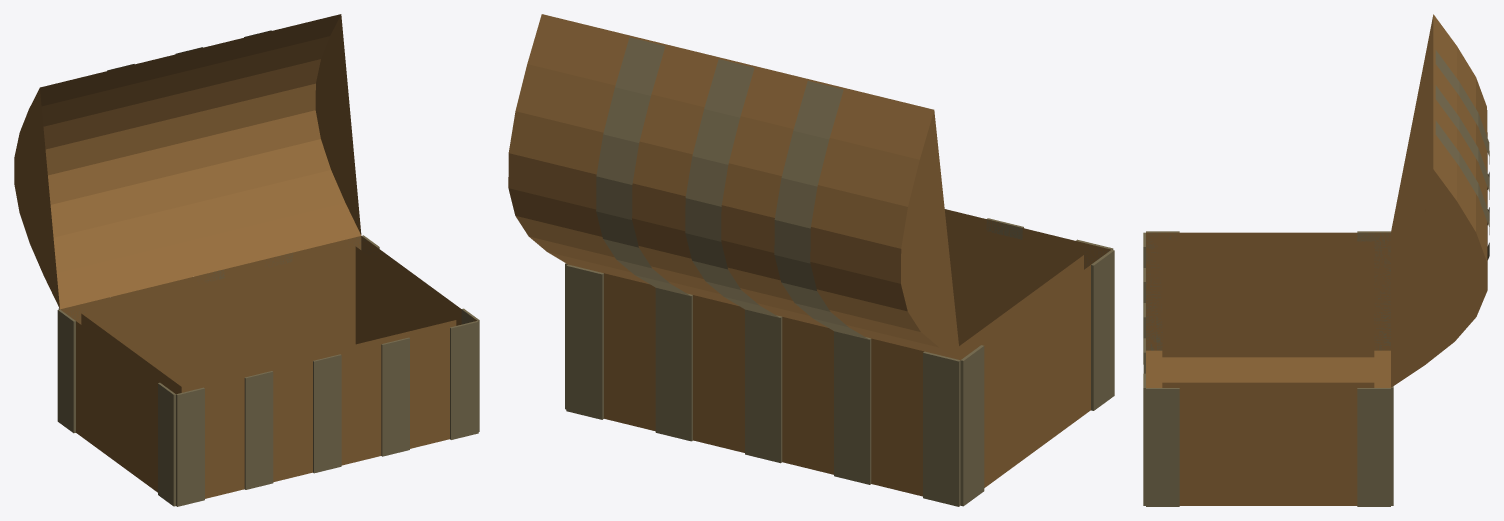
Rendered from chest_open.fbx.
The picture shows the model from 3 angles, left to right: view 1: azimuth 30°, elevation 25°; view 2: azimuth 150°, elevation 25°; view 3: azimuth 270°, elevation 25°; orthographic projection. The views are drawn at different scales.
Parts seen in each view (by area): view 1: Chest_Lid, Chest_Body, Chest_Interior, Band_0_Front, Corner_FL_Y, Corner_FR_Y, Band_2_Front, Band_1_Front, Corner_BL_X, Corner_FL_X; view 2: Chest_Lid, Chest_Body, Chest_Interior, Band_1_Arch, Band_0_Arch, Band_2_Arch, Corner_BL_Y, Corner_BR_Y, Band_0_Back, Band_1_Back, Band_2_Back, Corner_BL_X (+1 smaller); view 3: Chest_Body, Chest_Interior, Chest_Lid, Corner_BR_X, Corner_FR_X, Corner_BL_X, Band_2_Arch, Band_0_Arch, Band_1_Arch, Corner_FL_X, Corner_FR_Y.
Boxes of the visible parts, x1,y1,x2,y2 form: Chest_Lid: [14, 14, 361, 309]; Chest_Body: [60, 236, 476, 498]; Chest_Interior: [81, 246, 456, 394]; Band_0_Front: [244, 371, 273, 489]; Corner_FL_Y: [176, 387, 204, 506]; Corner_FR_Y: [450, 321, 478, 439]; Band_2_Front: [381, 337, 409, 456]; Band_1_Front: [313, 354, 341, 473]; Corner_BL_X: [57, 309, 75, 433]; Corner_FL_X: [158, 382, 175, 506]; Chest_Lid: [508, 14, 960, 360]; Chest_Body: [604, 209, 1110, 496]; Chest_Interior: [946, 221, 1083, 359]; Band_1_Arch: [685, 59, 779, 317]; Band_0_Arch: [774, 81, 869, 339]; Band_2_Arch: [596, 37, 690, 296]; Corner_BL_Y: [923, 351, 960, 506]; Corner_BR_Y: [566, 264, 603, 419]; Band_0_Back: [834, 331, 871, 484]; Band_1_Back: [745, 309, 782, 463]; Band_2_Back: [655, 288, 692, 441]; Corner_BL_X: [960, 345, 984, 506]; Chest_Body: [1146, 232, 1390, 505]; Chest_Interior: [1162, 241, 1374, 387]; Chest_Lid: [1391, 14, 1487, 387]; Corner_BR_X: [1357, 388, 1390, 506]; Corner_FR_X: [1146, 388, 1179, 506]; Corner_BL_X: [1357, 231, 1390, 350]; Band_2_Arch: [1435, 120, 1489, 259]; Band_0_Arch: [1435, 50, 1489, 189]; Band_1_Arch: [1435, 85, 1489, 224]; Corner_FL_X: [1146, 231, 1179, 350]; Corner_FR_Y: [1143, 373, 1145, 505].
Size of the model in its own units: 1003 by 999 by 932.
